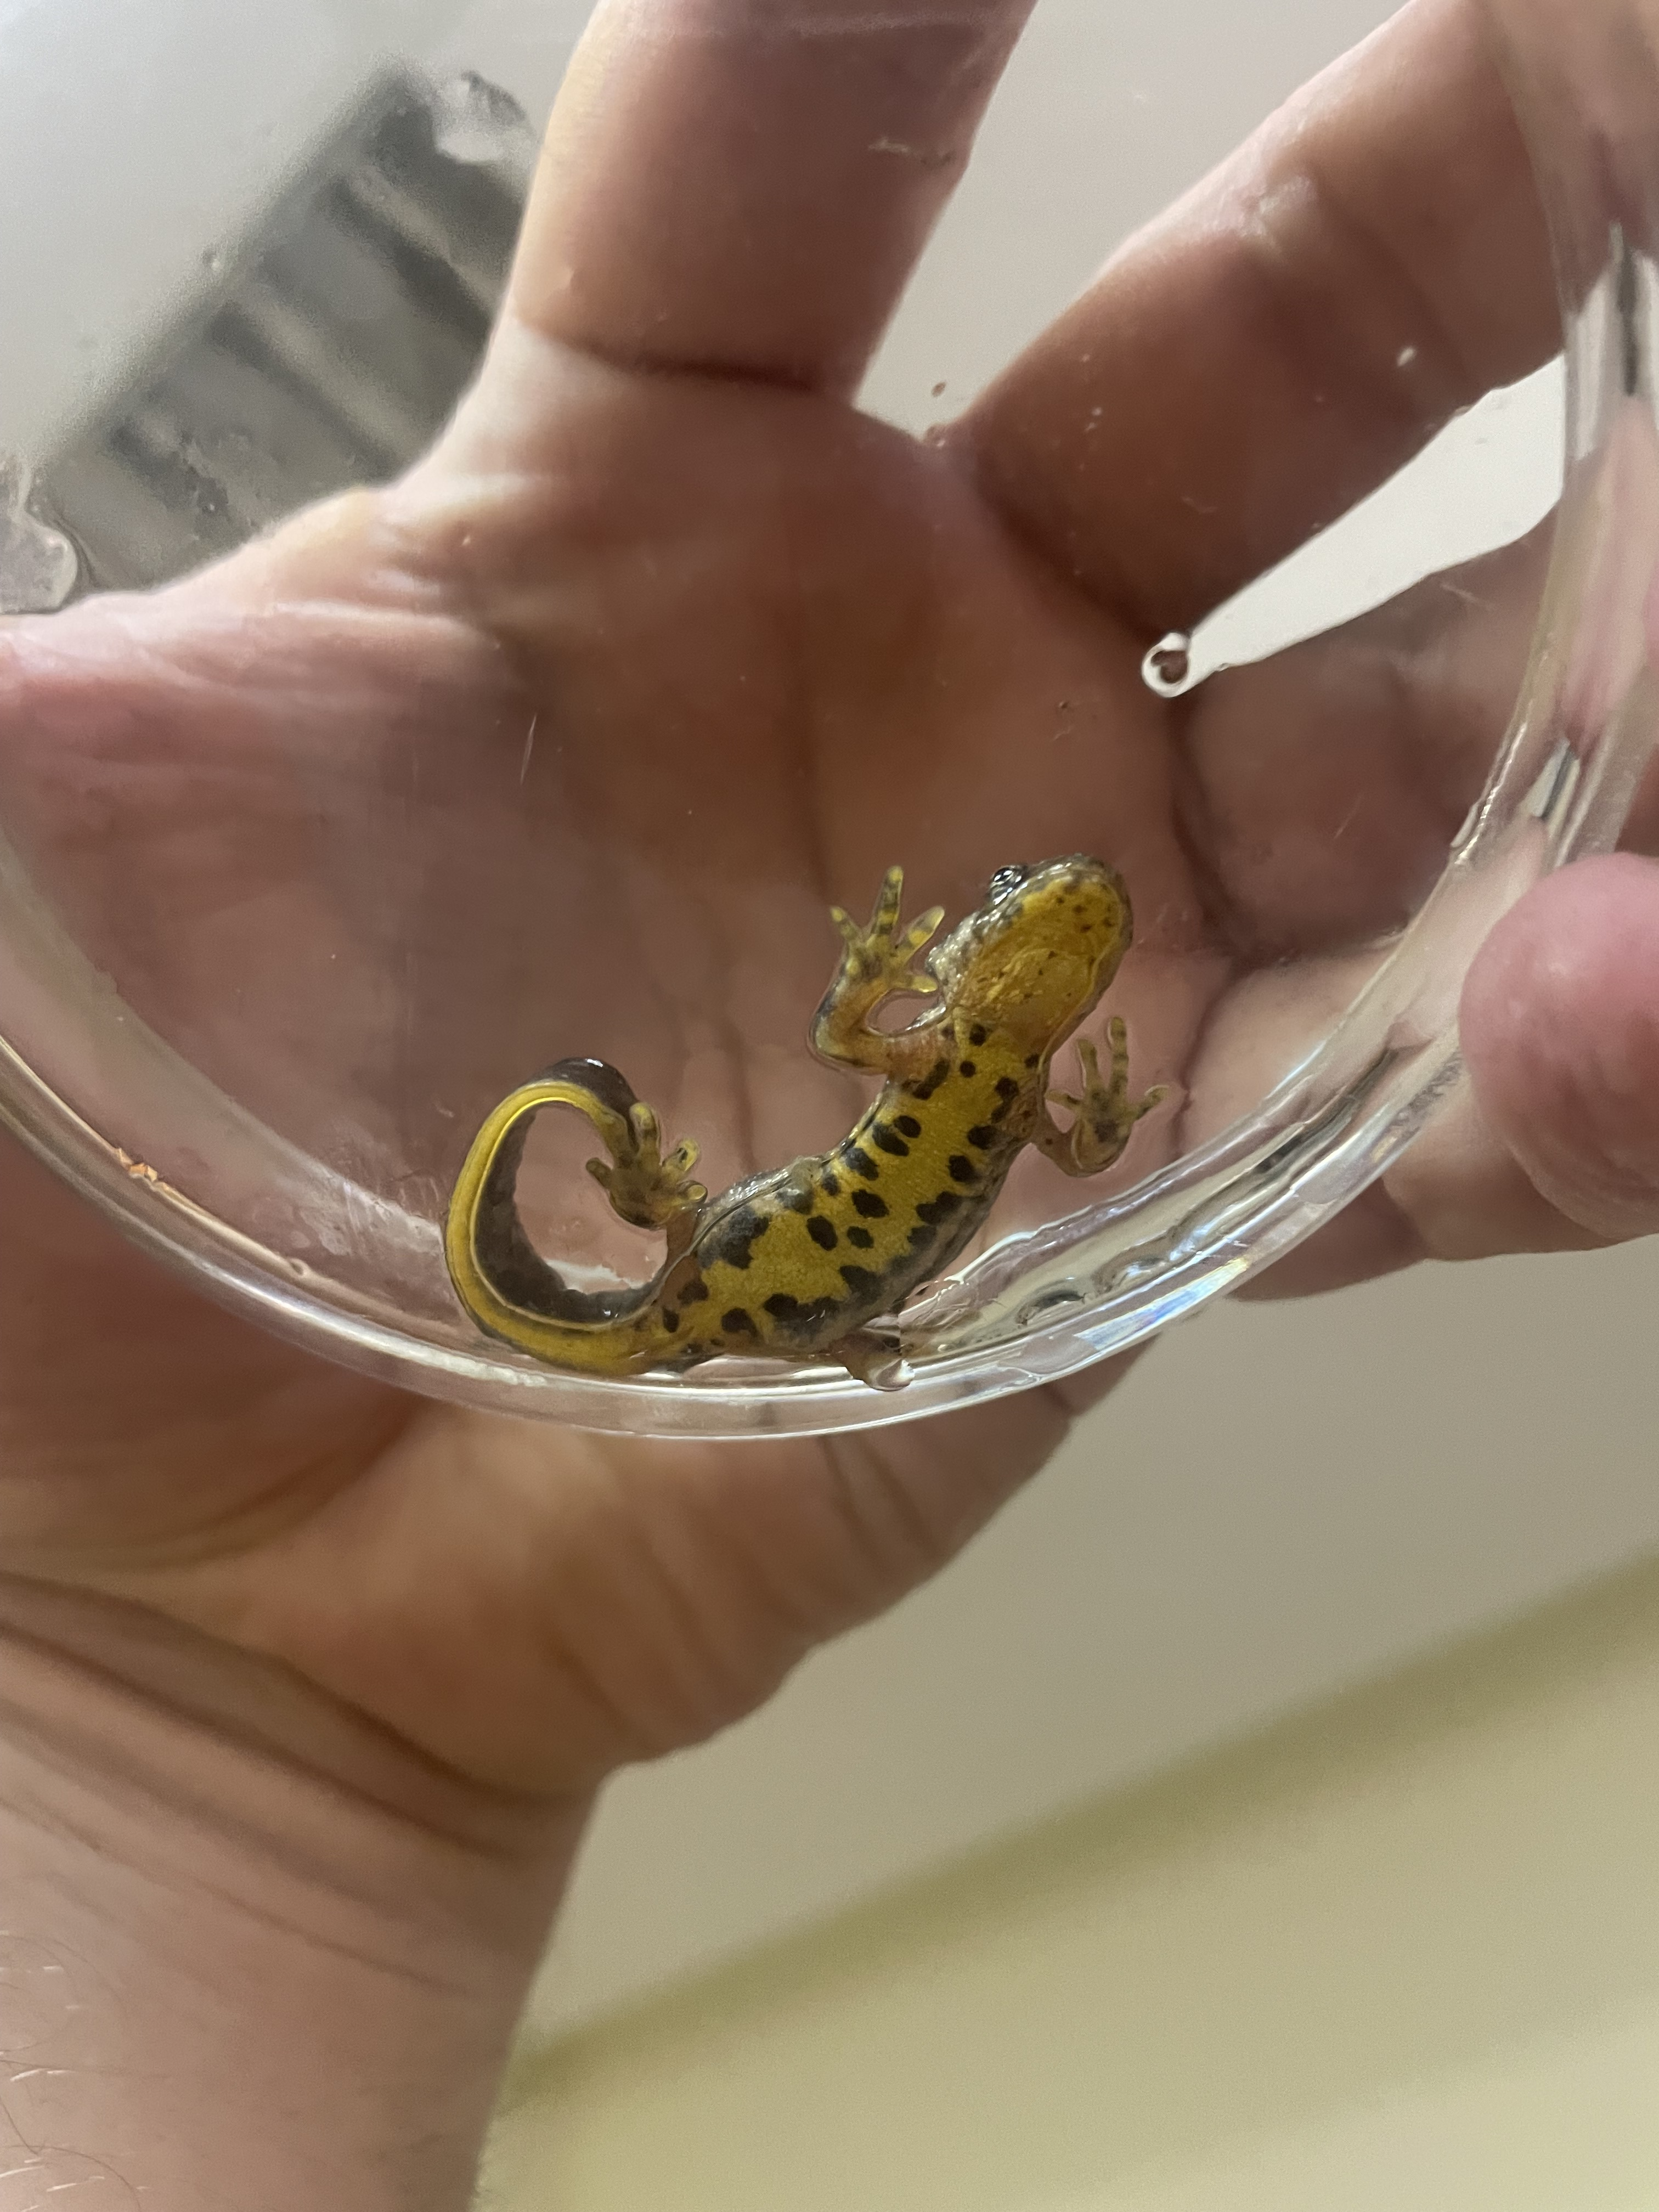Karelin_newt: (694, 1076, 1032, 1331)
